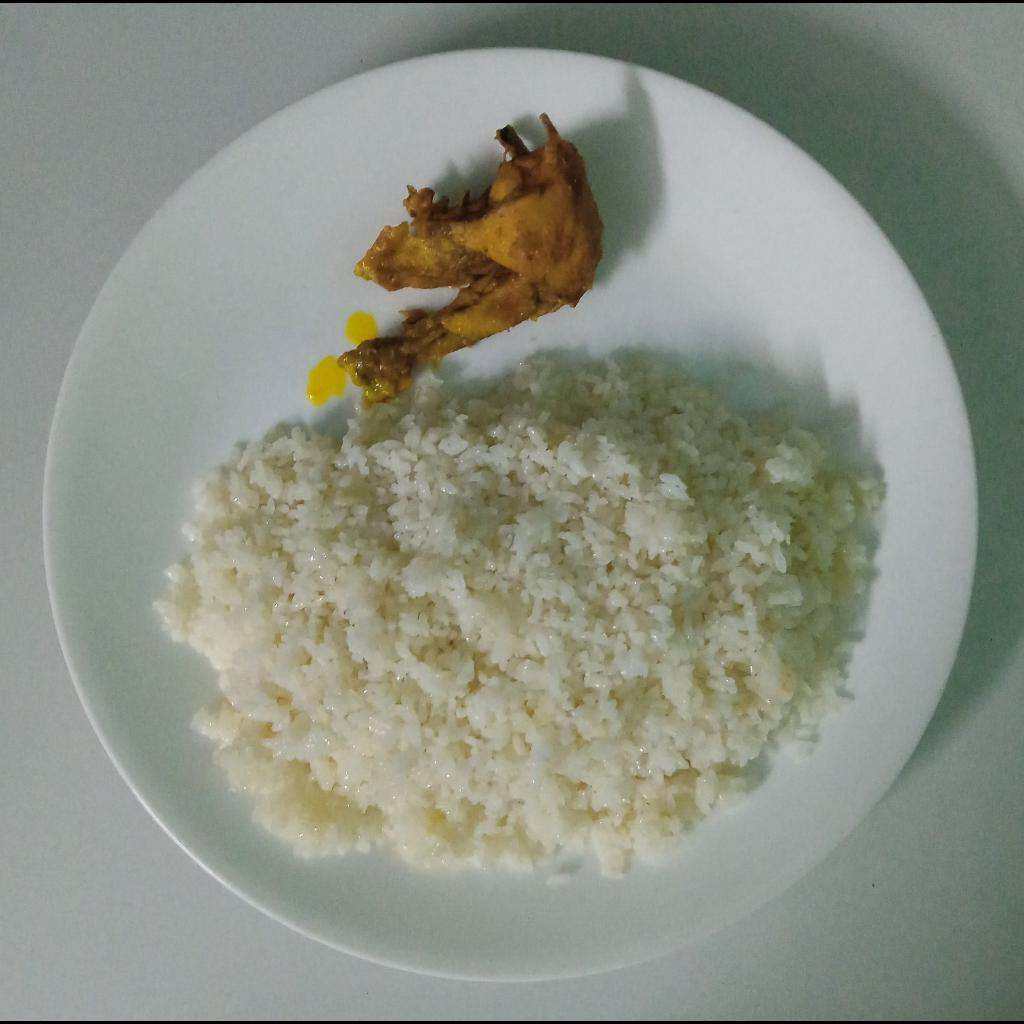chicken: (339, 111, 606, 404)
rice: (158, 351, 882, 875)
